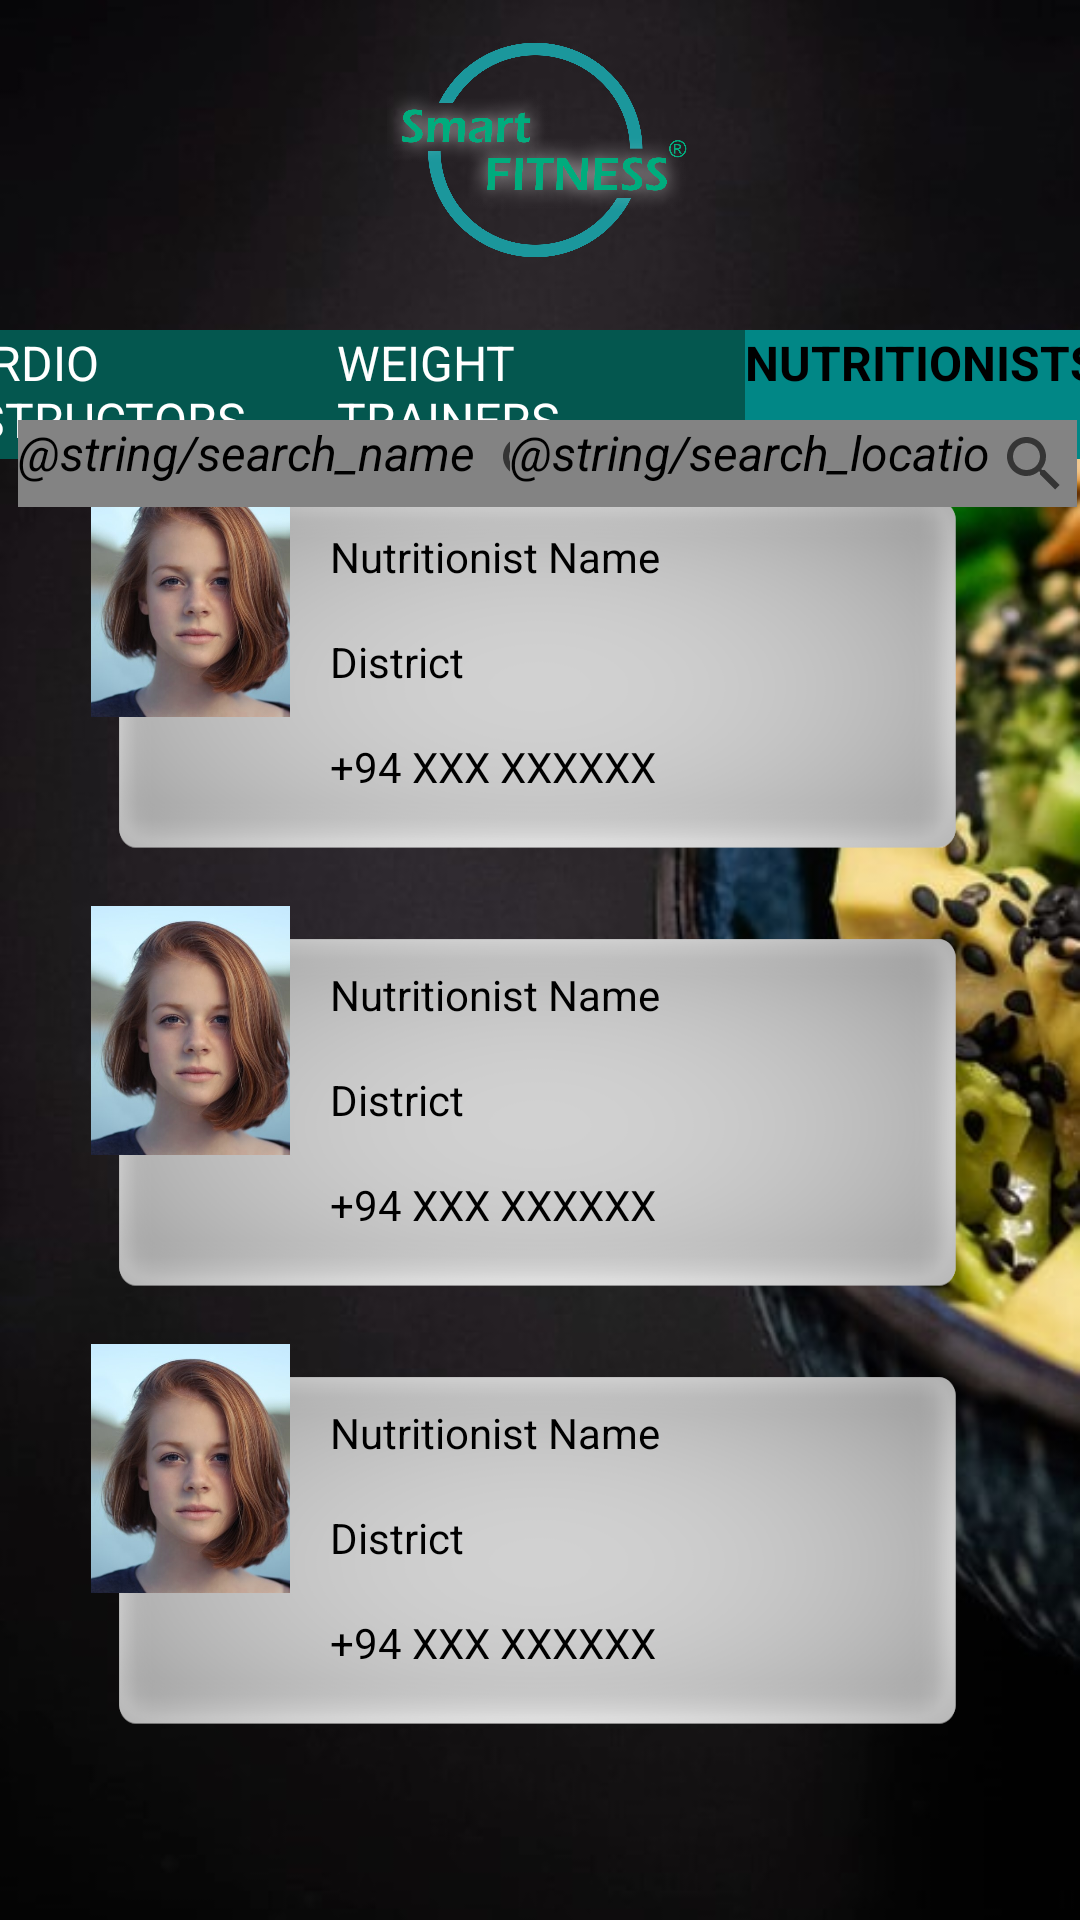

Icon click points for this 1080x1920 phone screenshot, format (x,y):
person: (190,592), (190,1030), (190,1468)
